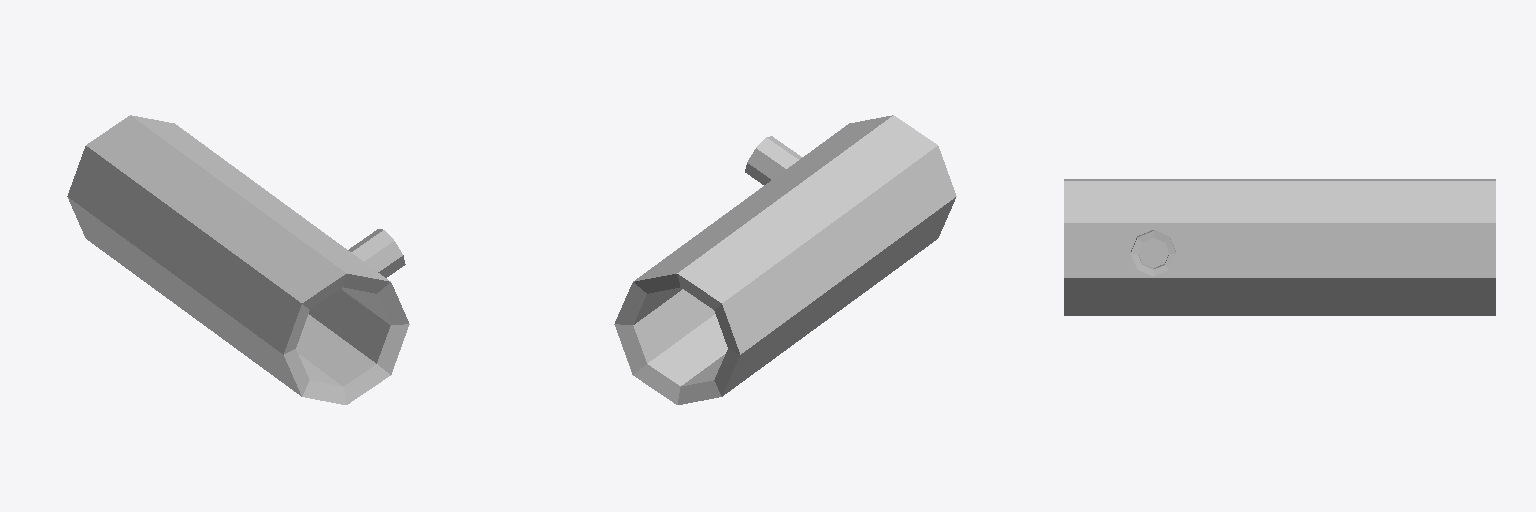
File: log.obj
3 renders of one model, left to right at view 1: azimuth 30°, elevation 25°; view 2: azimuth 150°, elevation 25°; view 3: azimuth 270°, elevation 25°, orthographic.
Parts seen in each view (by area): view 1: log; view 2: log; view 3: log.
Boxes of the visible parts, box(x1,y1,x2,y2) form: log: box(67, 115, 409, 404); log: box(614, 115, 956, 404); log: box(1064, 179, 1495, 315).
Size of the model in its own units: 1.47 by 1.15 by 3.42.